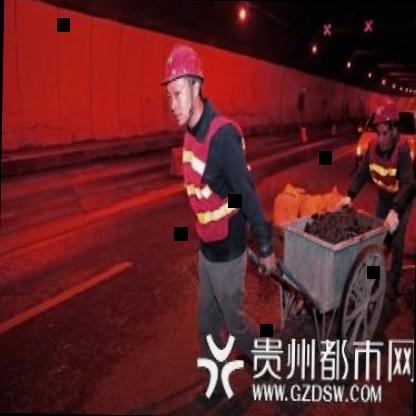helmet: (156, 38, 209, 128), (370, 90, 402, 153)
